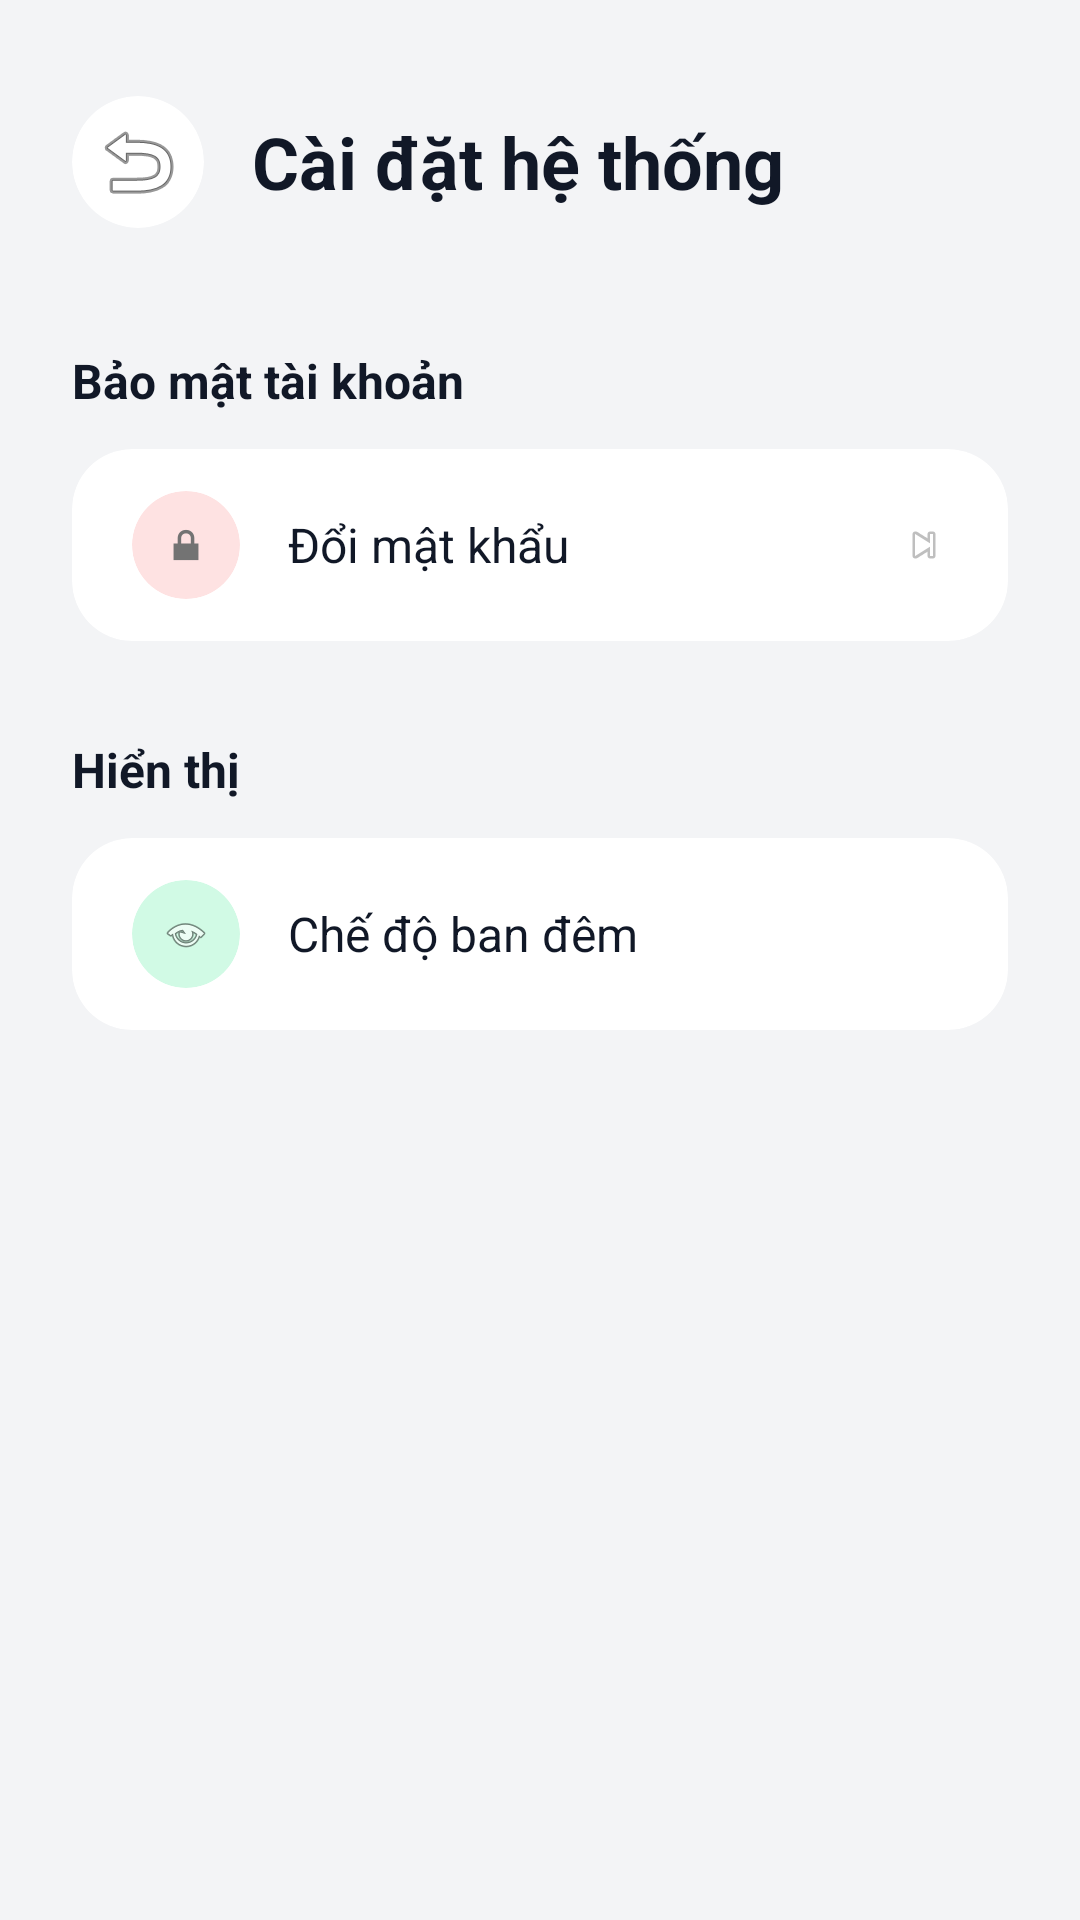

Named icons in this screenshot (1080×1920) and their bounding boxes, (x1, y1, x2, y2):
lock: (173, 530, 199, 560)
next: (912, 531, 936, 559)
revert: (72, 96, 204, 228)
view: (166, 923, 206, 948)
